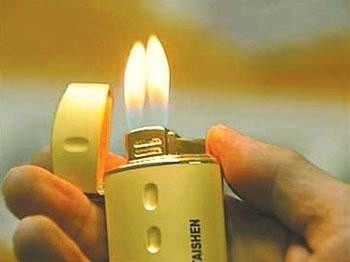fire: (121, 31, 170, 112)
